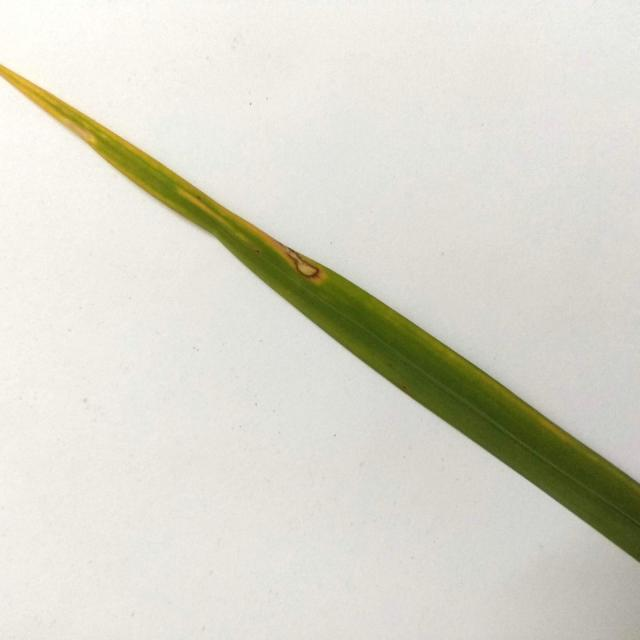Leaf blast: (0, 51, 640, 564)
